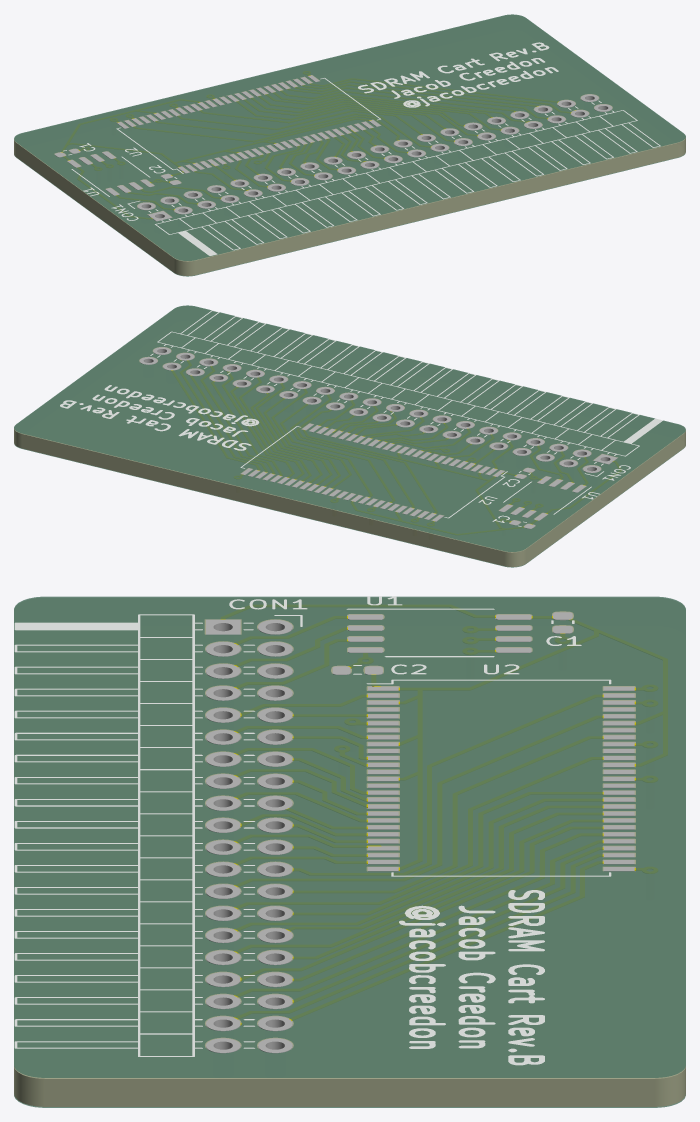
Rendered from hadbadge-2019-sdram-cartridge.glb.
The picture shows the model from 3 angles, top to bottom: view 1: azimuth 30°, elevation 25°; view 2: azimuth 150°, elevation 25°; view 3: azimuth 270°, elevation 25°; orthographic projection. The views are drawn at different scales.
Parts seen in each view (by area): view 1: =>[0:1:1:7], =>[0:1:1:9], =>[0:1:1:2], =>[0:1:1:5]; view 2: =>[0:1:1:7], =>[0:1:1:9], =>[0:1:1:2], =>[0:1:1:5]; view 3: =>[0:1:1:7], =>[0:1:1:9], =>[0:1:1:2], =>[0:1:1:5].
Boxes of the visible parts, left/top/right/bottom form: =>[0:1:1:7]: left=14, top=14, right=685, bottom=276; =>[0:1:1:9]: left=14, top=15, right=685, bottom=275; =>[0:1:1:2]: left=54, top=71, right=612, bottom=221; =>[0:1:1:5]: left=63, top=42, right=660, bottom=255; =>[0:1:1:7]: left=14, top=305, right=685, bottom=567; =>[0:1:1:9]: left=14, top=306, right=685, bottom=566; =>[0:1:1:2]: left=139, top=347, right=620, bottom=534; =>[0:1:1:5]: left=60, top=310, right=662, bottom=526; =>[0:1:1:7]: left=14, top=596, right=685, bottom=1107; =>[0:1:1:9]: left=14, top=598, right=685, bottom=1106; =>[0:1:1:2]: left=206, top=605, right=667, bottom=1053; =>[0:1:1:5]: left=14, top=596, right=611, bottom=1065.
Bounding box in the file's own units: 0.0555 × 0.00166 × 0.0327.
4 materials, 4 textured.
